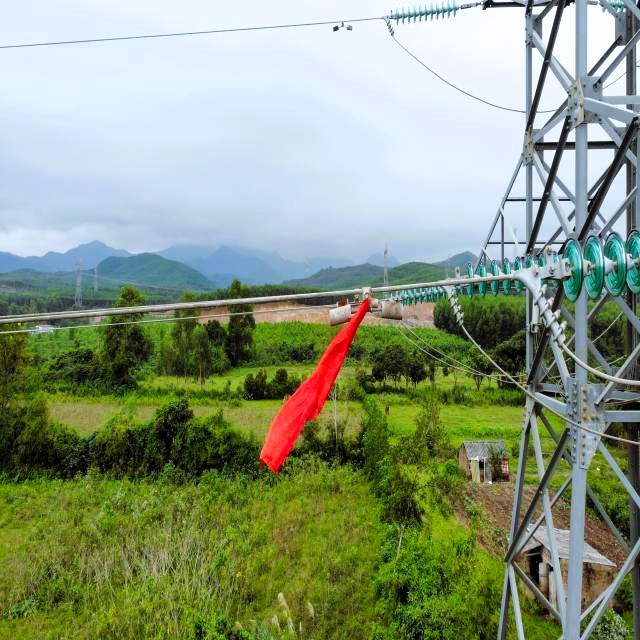wire foreign body: (259, 279, 393, 470)
